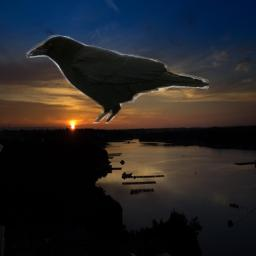Crow: (22, 31, 209, 124)
